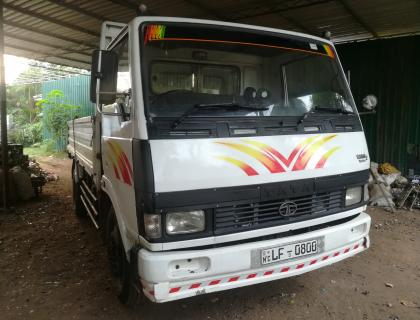truck: (66, 15, 378, 304)
